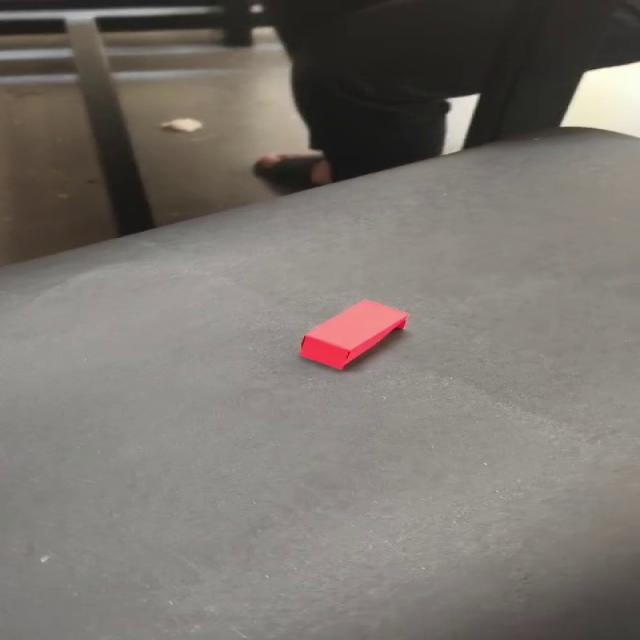red block: (298, 298, 410, 371)
